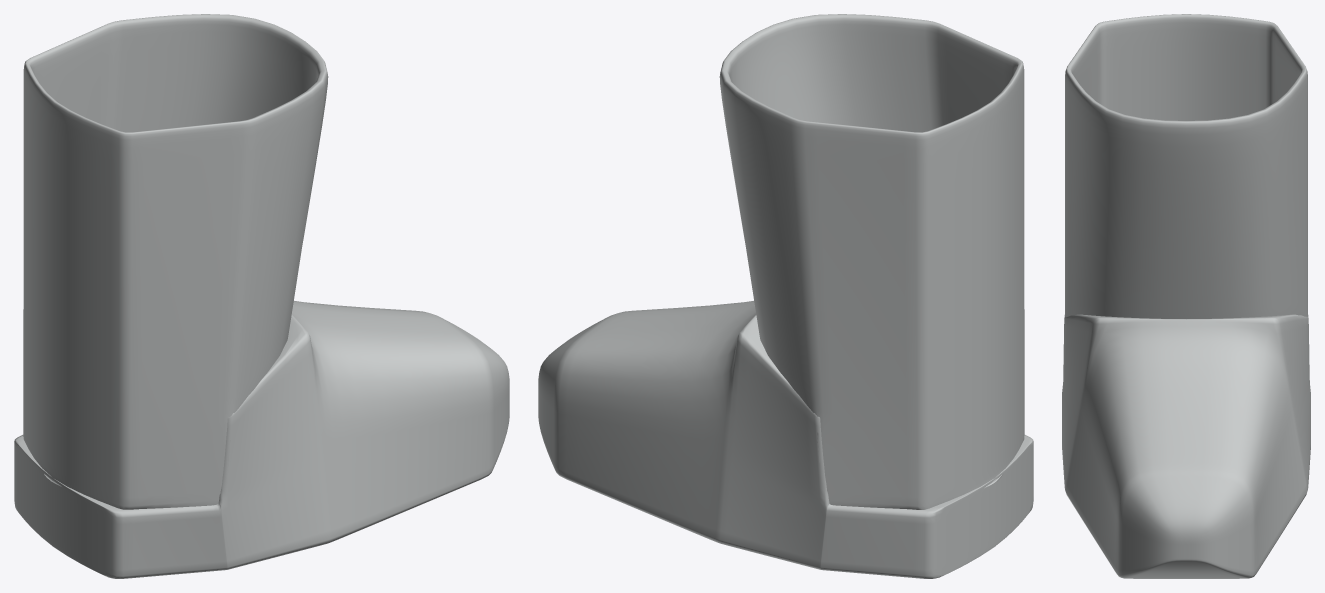
File: Boot.glb
3 views of the same model, side by side, from view 1: azimuth 30°, elevation 25°; view 2: azimuth 150°, elevation 25°; view 3: azimuth 270°, elevation 25° (orthographic). The views are drawn at different scales.
Parts seen in each view (by area): view 1: Boot_geo; view 2: Boot_geo; view 3: Boot_geo.
Part boxes in pixels (x1,y1,x2,y2): Boot_geo: (14,14,509,578); Boot_geo: (538,14,1033,578); Boot_geo: (1062,14,1310,578).
Bounding box in the file's own units: 2.98 × 2.82 × 1.61.
1 material, 1 textured.
